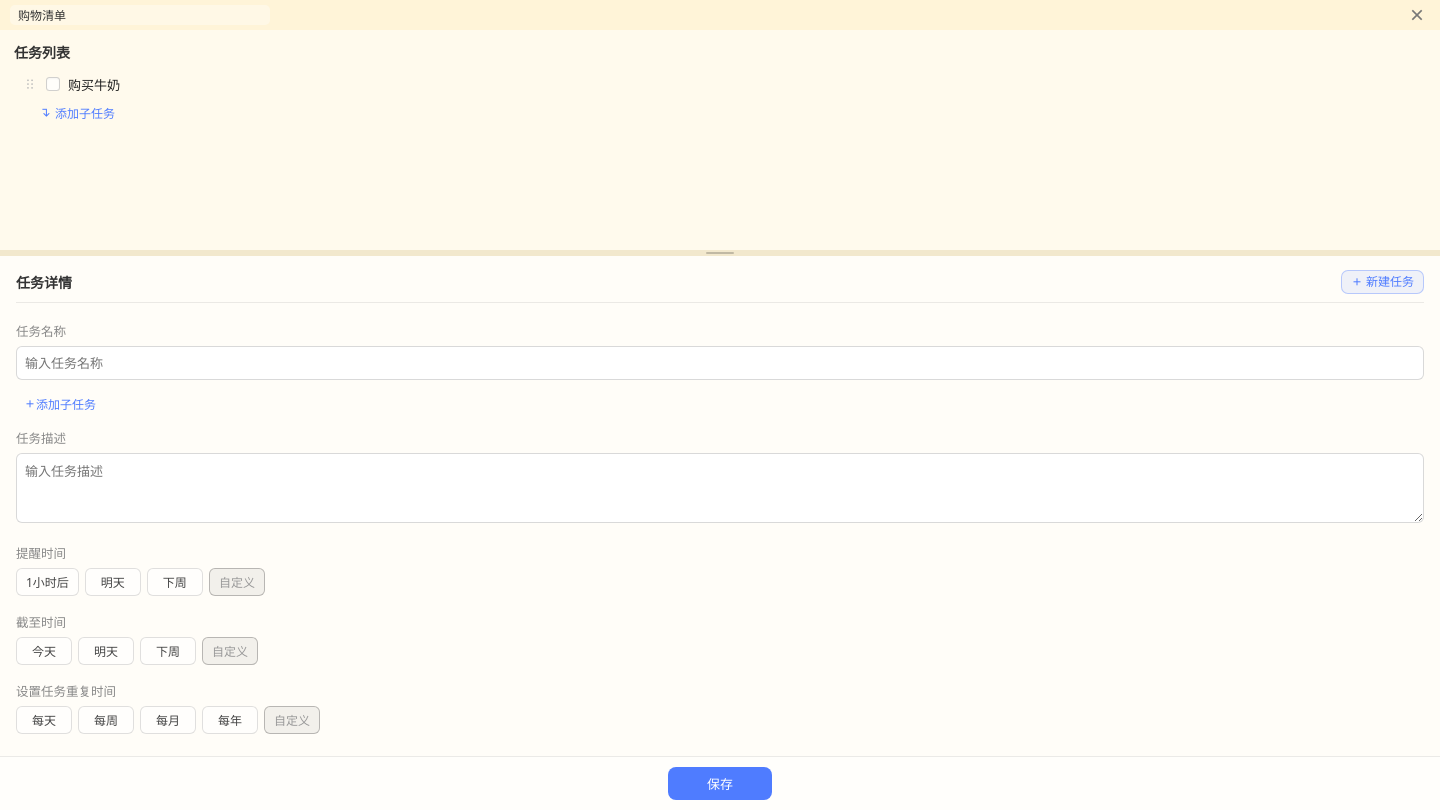
Test: TodoWindow 完整组件树 › 「新建任务」后新行被滚动到可视区并高亮
Click the button with class "add-task". click: (1382, 282)
box: [1341, 270, 1424, 294]
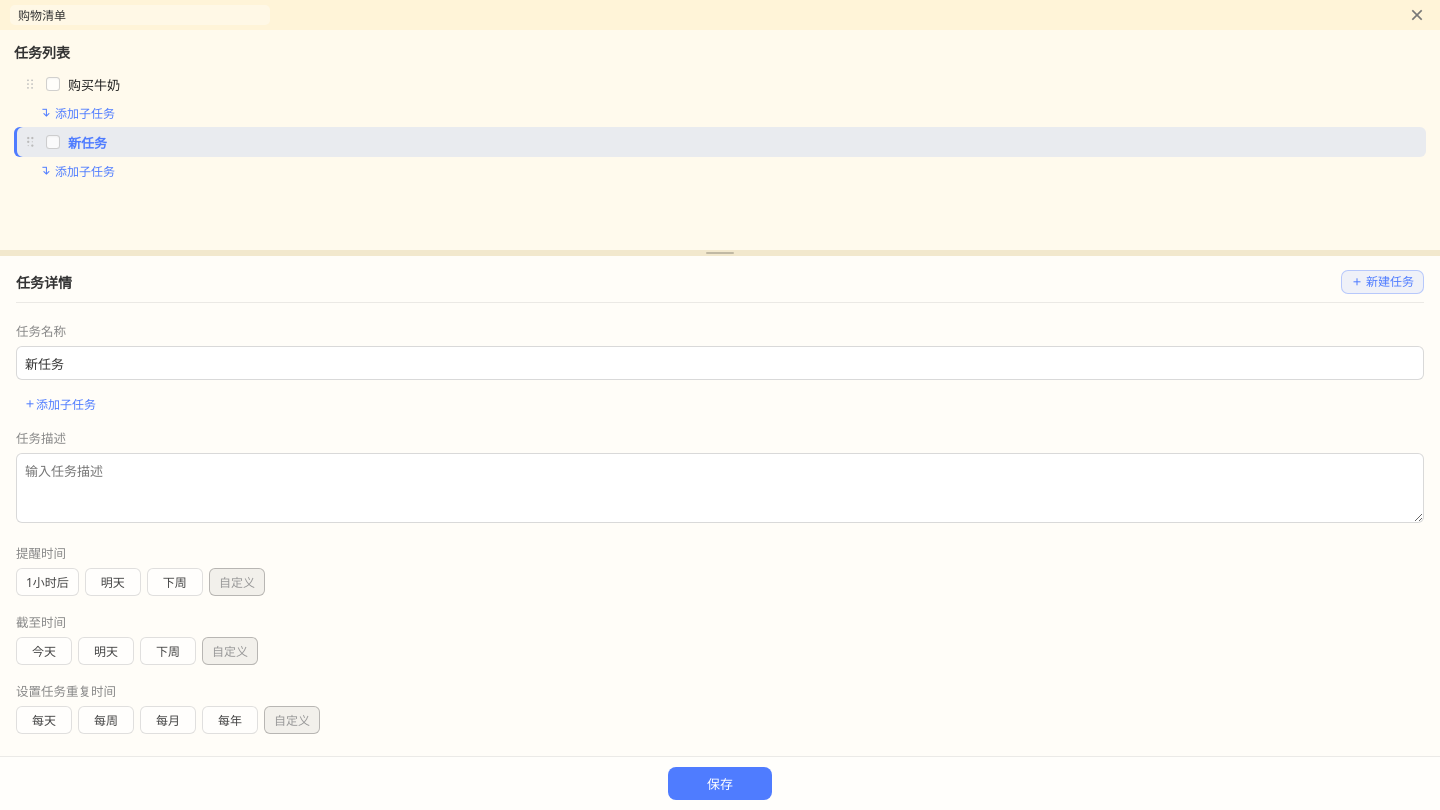
Now the list item "新任务" is shown, box [14, 127, 1426, 157]
